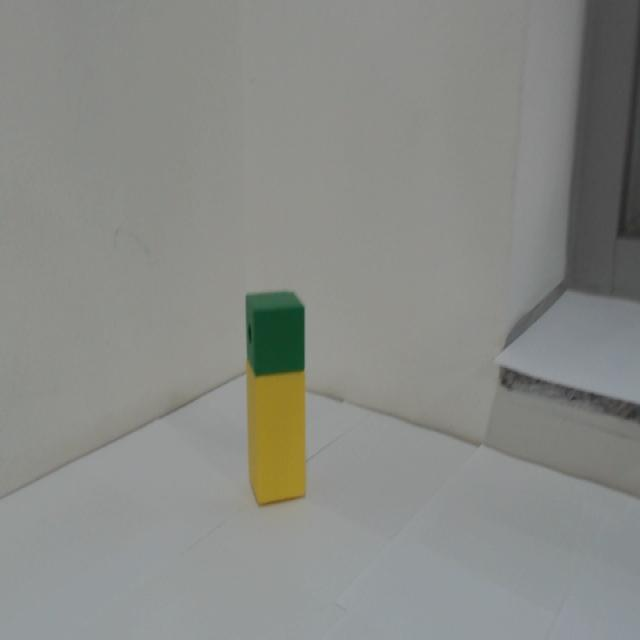cube: (245, 290, 305, 377)
